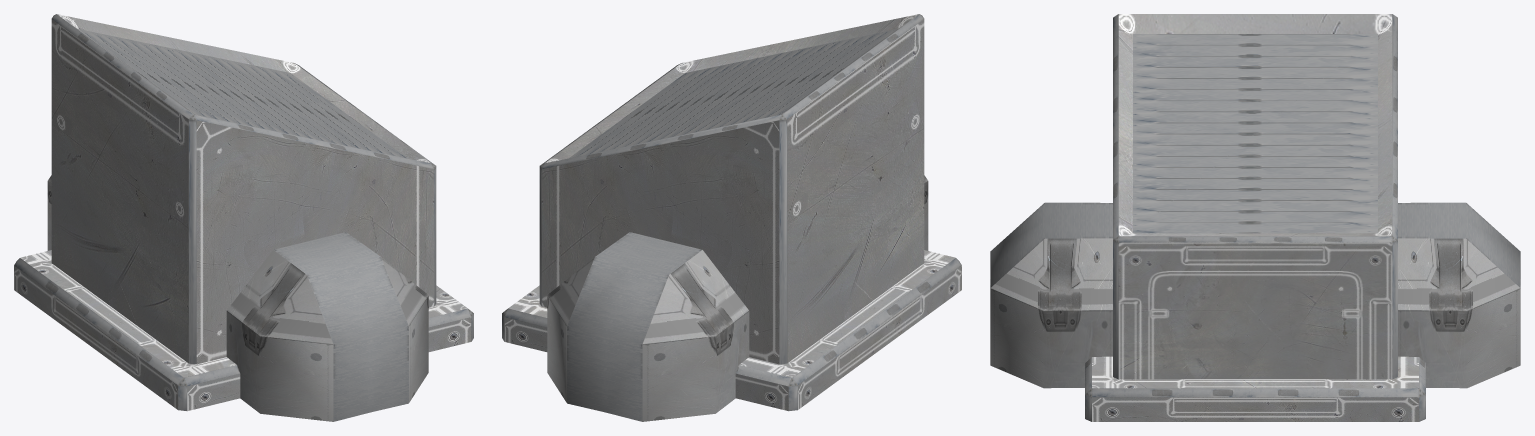
The model's file is SM_Vent3.fbx.
3 views of the same model, side by side, from view 1: azimuth 30°, elevation 25°; view 2: azimuth 150°, elevation 25°; view 3: azimuth 270°, elevation 25° (orthographic).
Visible parts, largest first — view 1: SM_Vent3_LOD0; view 2: SM_Vent3_LOD0; view 3: SM_Vent3_LOD0.
Boxes of the visible parts, box(x1,y1,x2,y2) form: SM_Vent3_LOD0: box(14, 14, 473, 421); SM_Vent3_LOD0: box(502, 14, 961, 421); SM_Vent3_LOD0: box(990, 14, 1520, 421).
Size of the model in its own units: 100 by 156 by 90.04.
4 materials, 4 textured.
